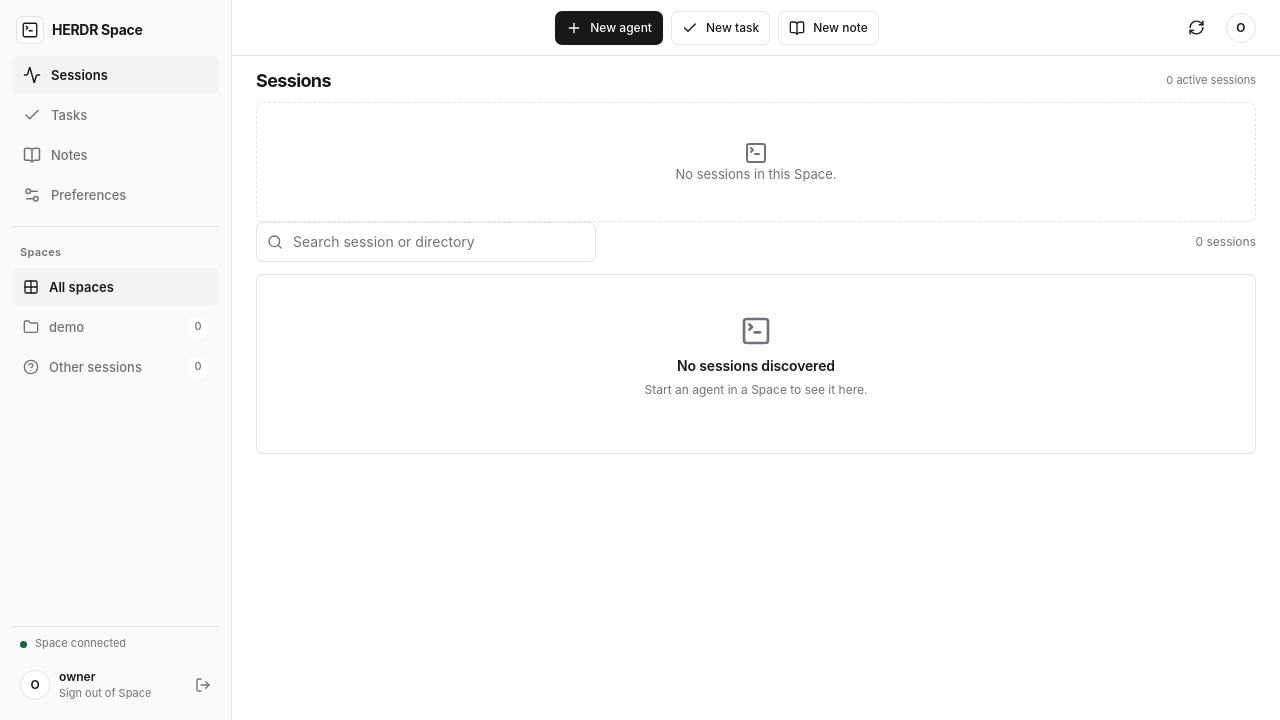
Test: offers a native Space to start an agent when there are no legacy projects
Click the button "New agent" at (609, 28), box x1=555 y1=10 x2=663 y2=44
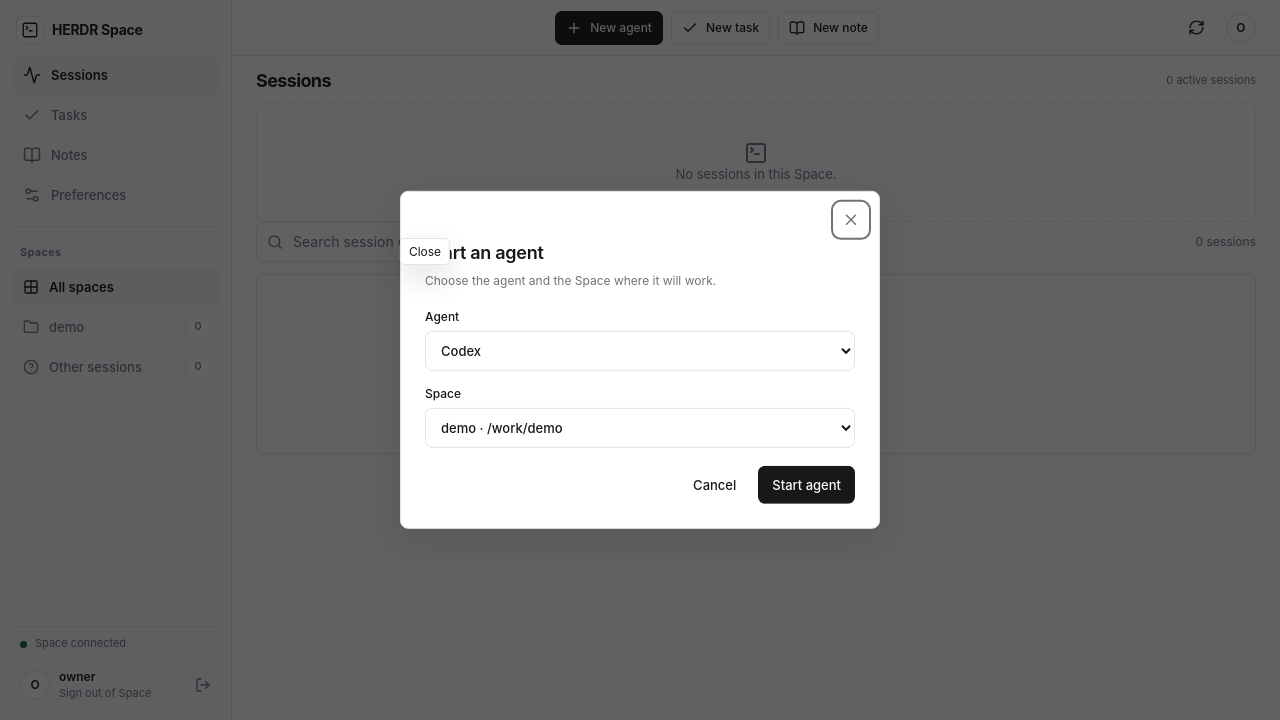
expect the heading "Start an agent" is shown: met, box x1=425 y1=242 x2=544 y2=263
expect the dropdown labelled "Space" is shown: met, box x1=425 y1=408 x2=855 y2=448
